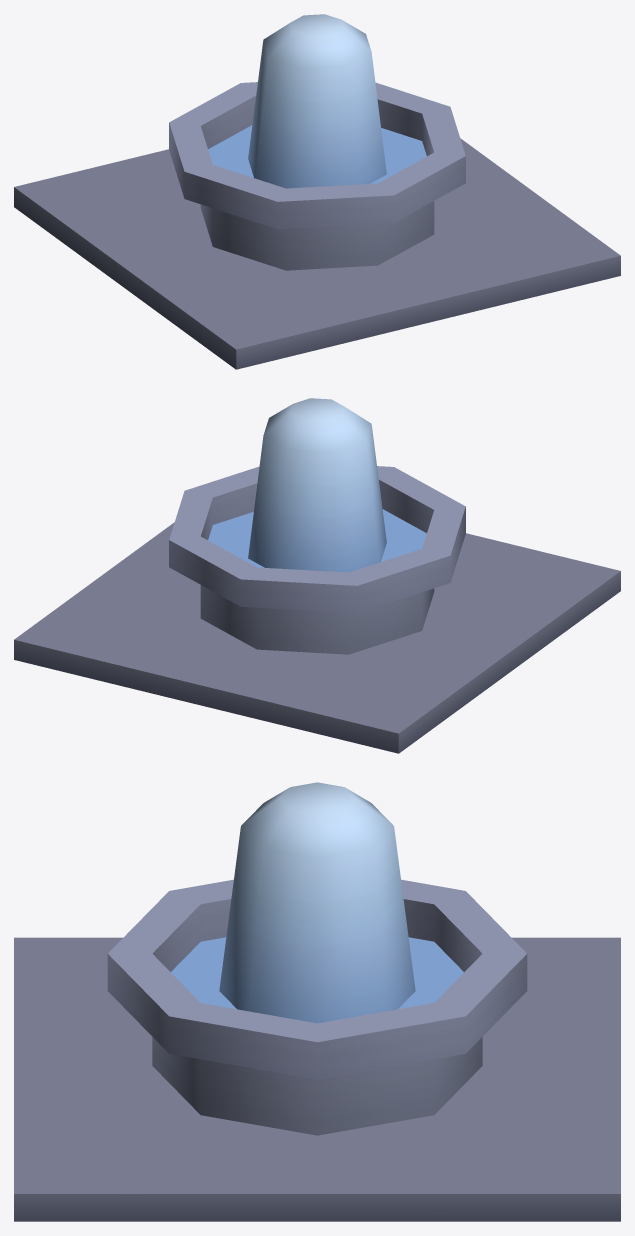
Rendered from ke_pavement-fountain.glb.
3 views of the same model, one above another, from view 1: azimuth 30°, elevation 25°; view 2: azimuth 150°, elevation 25°; view 3: azimuth 270°, elevation 25° (orthographic). The views are drawn at different scales.
Visible parts, largest first — view 1: pavement-fountain; view 2: pavement-fountain; view 3: pavement-fountain.
Part boxes in pixels (x1=…): pavement-fountain: x1=14, y1=14, x2=620, y2=369; pavement-fountain: x1=14, y1=398, x2=620, y2=753; pavement-fountain: x1=14, y1=782, x2=620, y2=1221.
Bounding box in the file's own units: 1 × 0.536 × 1.
1 material, 1 textured.
